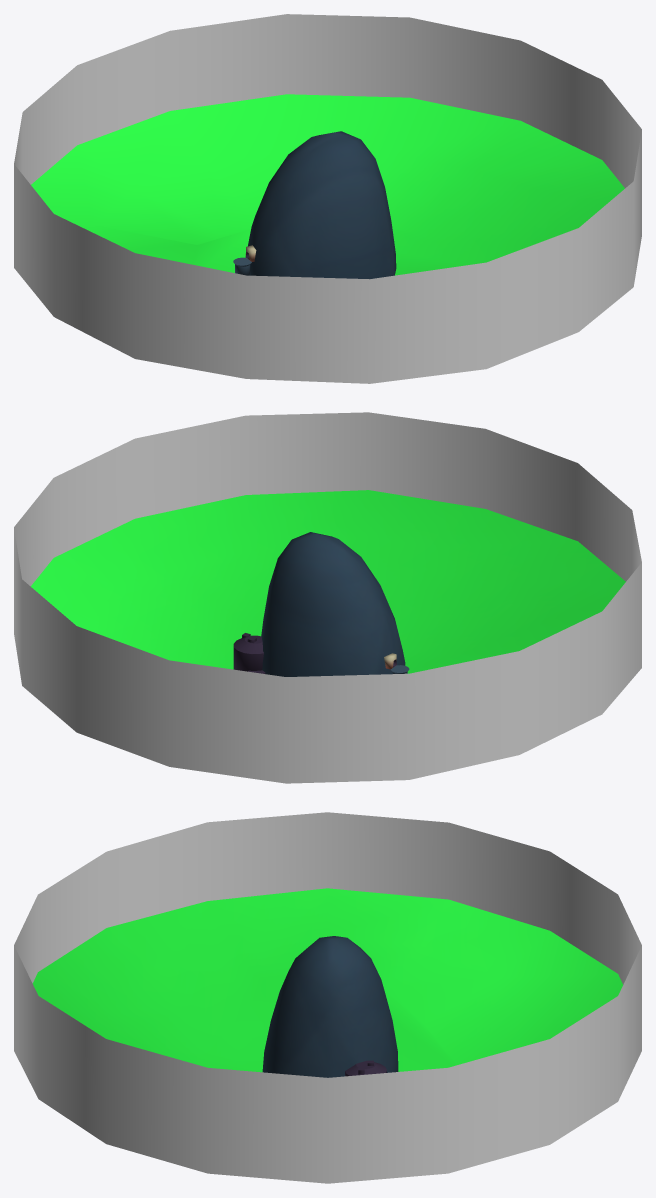
The model's file is Cave0 1.fbx.
3 renders of one model, top to bottom at view 1: azimuth 30°, elevation 25°; view 2: azimuth 150°, elevation 25°; view 3: azimuth 270°, elevation 25°, orthographic.
Visible parts, largest first — view 1: Cylinder.002, Cylinder, Cube; view 2: Cylinder.002, Cylinder, Cube, Cylinder.001; view 3: Cylinder.002, Cylinder, Cube.
Part boxes in pixels (x1,y1,x2,y2): Cylinder.002: (14, 14, 641, 383); Cylinder: (31, 94, 624, 275); Cube: (245, 131, 396, 279); Cylinder.002: (14, 412, 641, 783); Cylinder: (31, 490, 625, 673); Cube: (261, 532, 405, 676); Cylinder.001: (233, 633, 265, 673); Cylinder.002: (14, 812, 641, 1183); Cylinder: (32, 888, 622, 1072); Cube: (262, 936, 398, 1077).
Size of the model in its own units: 34763 by 12510 by 34734.
1 material, 1 textured.
